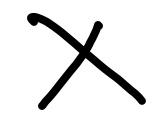mult: (26, 12, 146, 110)
